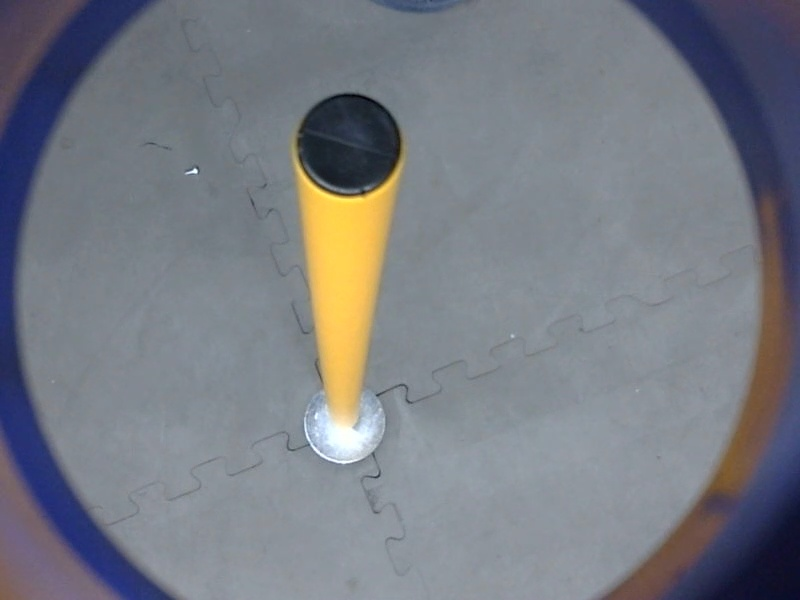tip: (287, 84, 410, 202)
